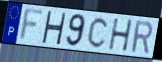9: (65, 13, 87, 48)
C: (86, 16, 110, 49)
F: (17, 8, 46, 43)
H: (40, 10, 67, 46), (108, 18, 134, 53)
R: (130, 20, 154, 56)
